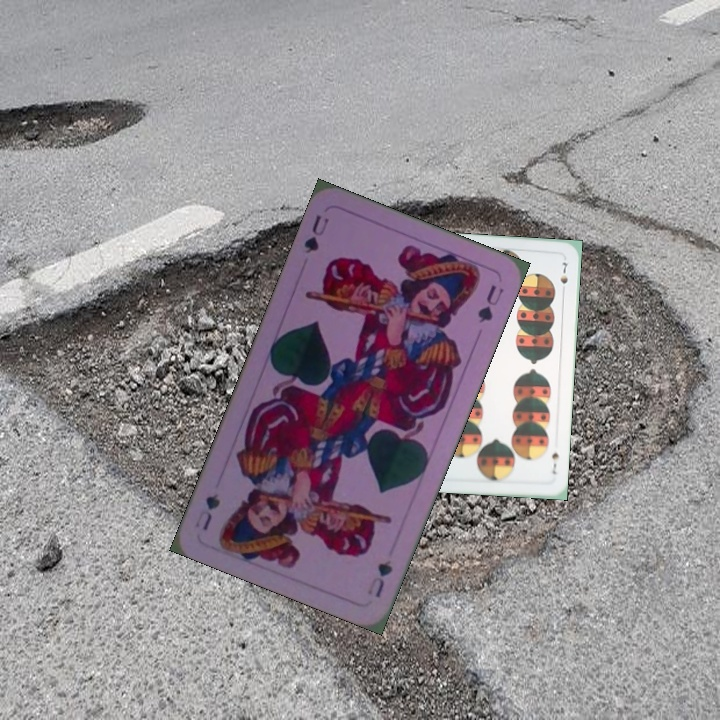GU: (300, 210, 332, 256), (363, 556, 396, 600)
S7: (548, 449, 561, 477)
